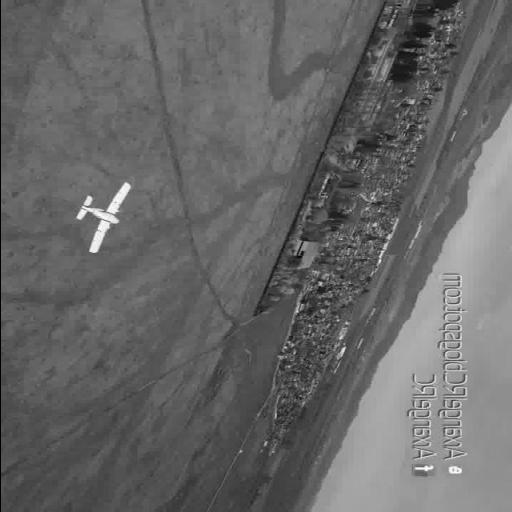uav: (74, 178, 132, 256)
